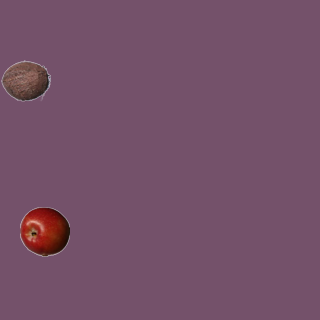Apple Braeburn: (19, 206, 69, 256)
Cocos: (0, 55, 50, 105)
